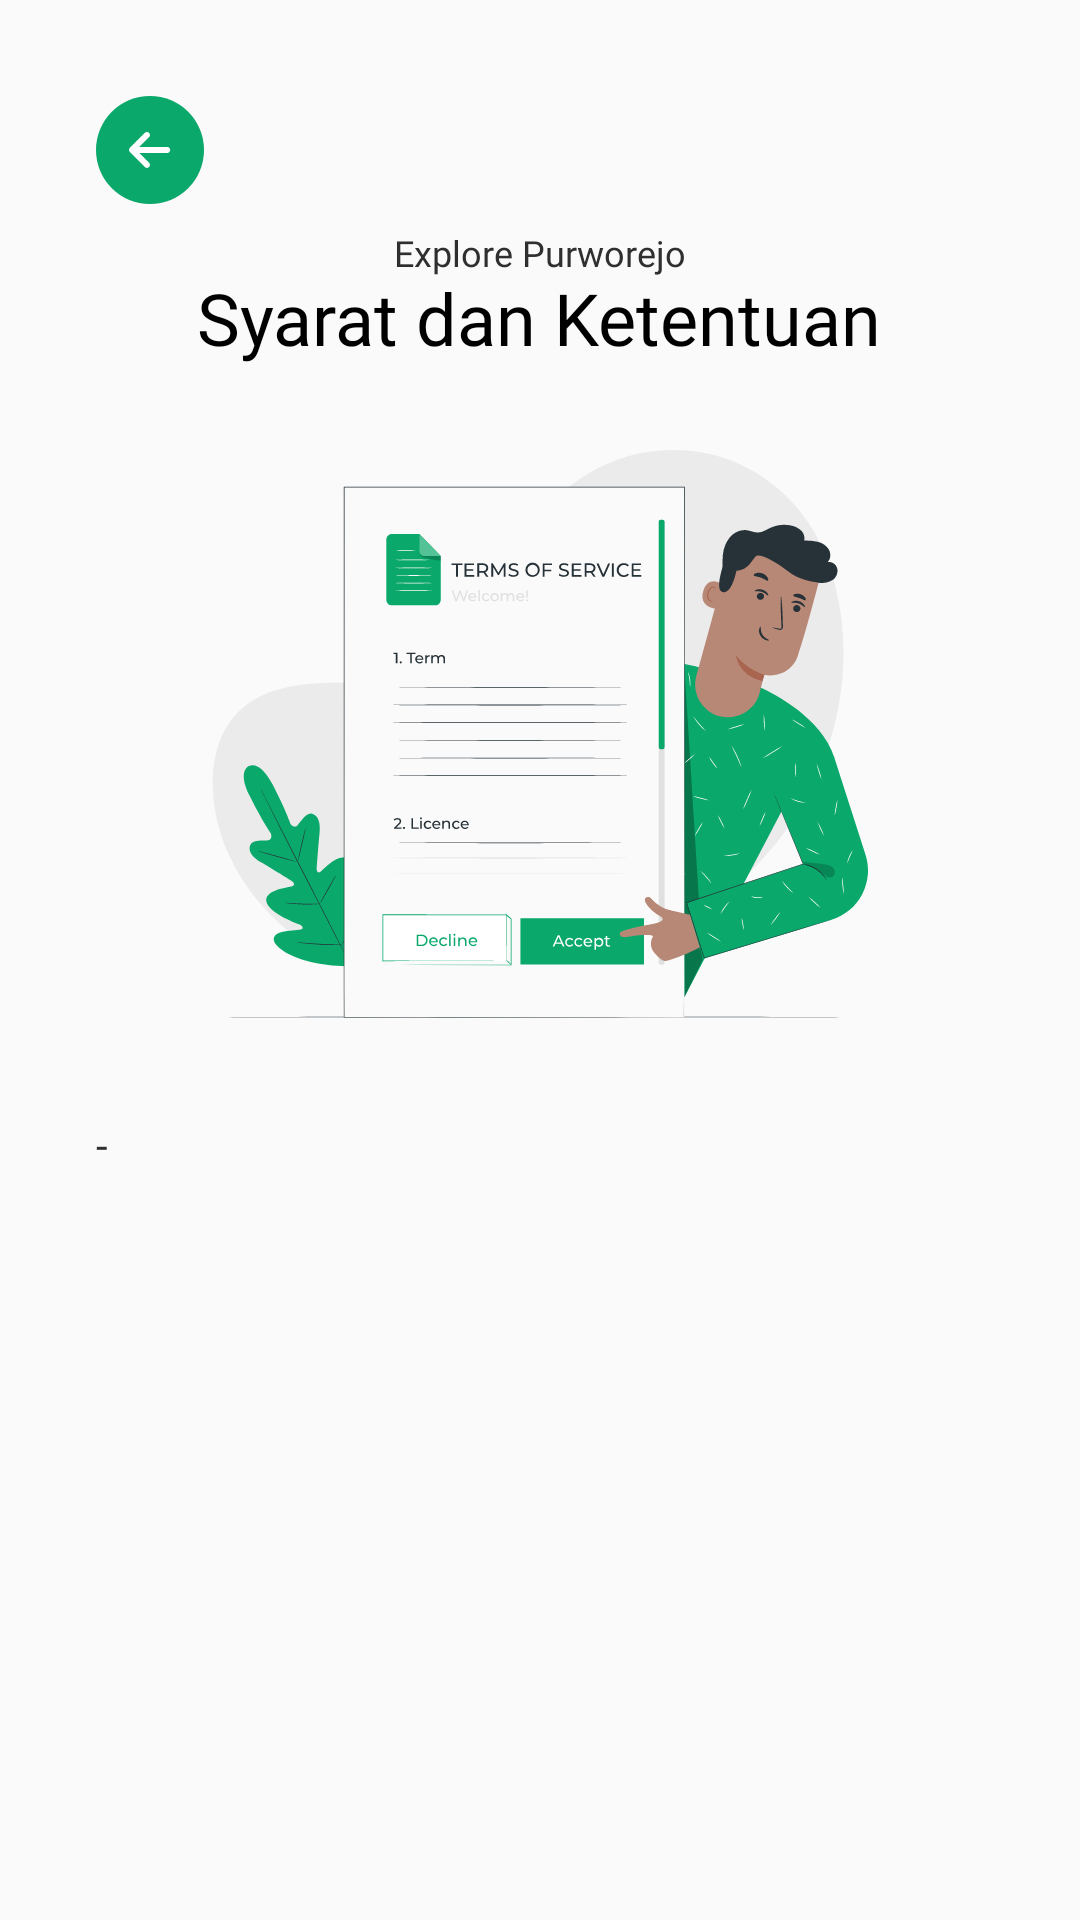

Named icons in this screenshot (1080 x 1920) and their bounding boxes, (x1, y1, x2, y2):
kembali bghijau: (96, 96, 204, 204)
